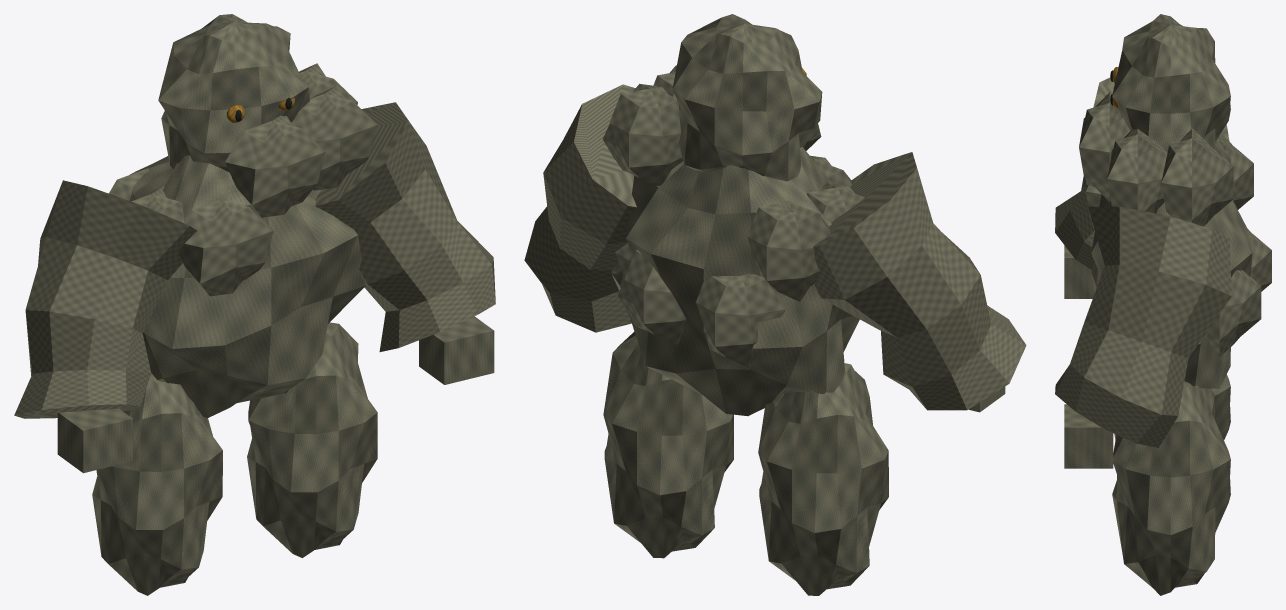
Rendered from special-earth-elemental.glb.
3 renders of one model, left to right at view 1: azimuth 30°, elevation 25°; view 2: azimuth 150°, elevation 25°; view 3: azimuth 270°, elevation 25°, orthographic. The views are drawn at different scales.
Parts seen in each view (by area): view 1: stone; view 2: stone; view 3: stone.
Boxes of the visible parts, bbox=[...] form: stone: bbox=[14, 14, 495, 595]; stone: bbox=[524, 14, 1026, 595]; stone: bbox=[1055, 14, 1271, 595].
Bounding box in the file's own units: 1.29 × 1.42 × 0.5295.
3 materials, 3 textured.
